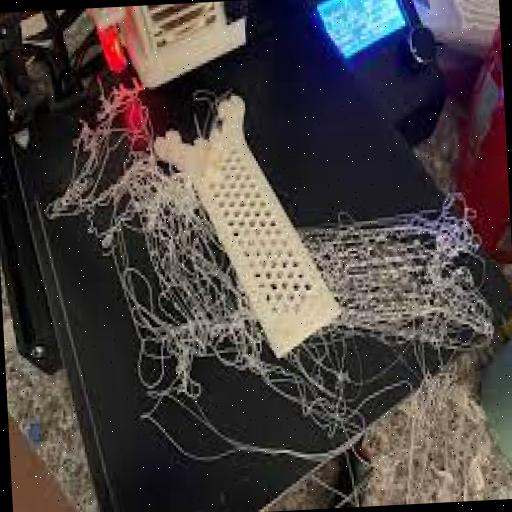spaghetti: (43, 100, 250, 433), (299, 179, 490, 417)
